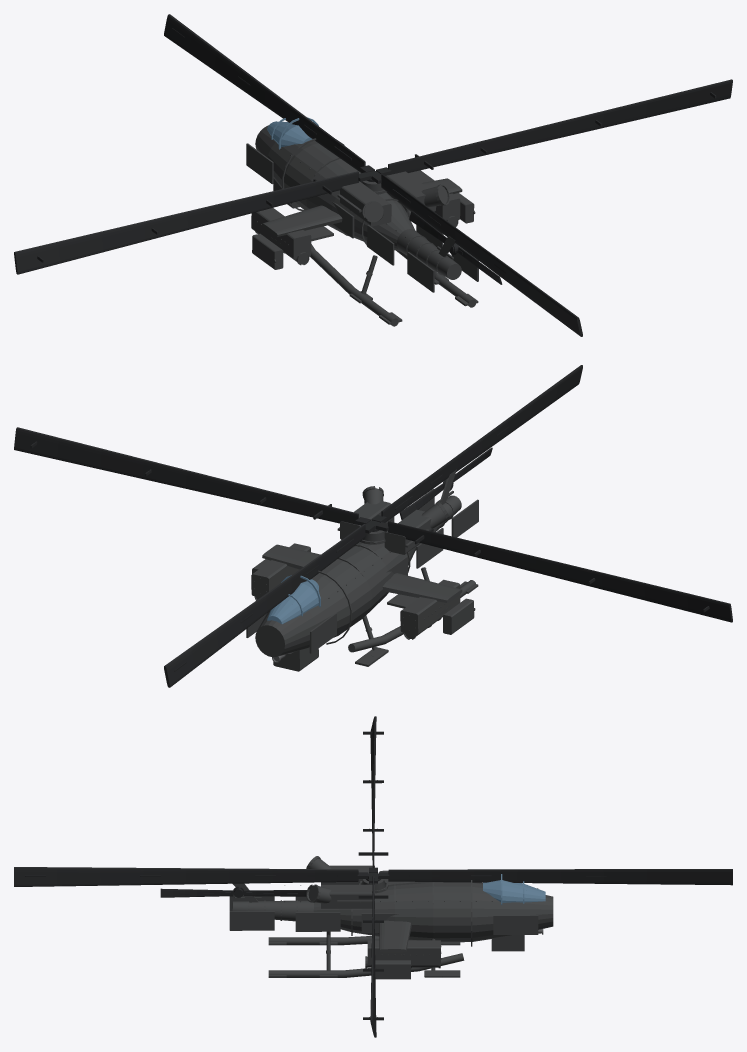
Rendered from streak_gunship.glb.
The picture shows the model from 3 angles, top to bottom: view 1: azimuth 30°, elevation 25°; view 2: azimuth 150°, elevation 25°; view 3: azimuth 270°, elevation 25°; orthographic projection. The views are drawn at different scales.
Parts seen in each view (by area): view 1: streak_gunship__mainRotor, streak_gunship__streak_gunship, streak_gunship__cockpit, streak_gunship__tailRotor; view 2: streak_gunship__mainRotor, streak_gunship__streak_gunship, streak_gunship__cockpit, streak_gunship__tailRotor; view 3: streak_gunship__streak_gunship, streak_gunship__mainRotor, streak_gunship__tailRotor, streak_gunship__cockpit.
Boxes of the visible parts, <box> form: streak_gunship__mainRotor: <box>14,14,732,336</box>; streak_gunship__streak_gunship: <box>246,125,478,326</box>; streak_gunship__cockpit: <box>267,117,318,149</box>; streak_gunship__tailRotor: <box>409,211,502,284</box>; streak_gunship__mainRotor: <box>14,365,732,687</box>; streak_gunship__streak_gunship: <box>246,469,478,671</box>; streak_gunship__cockpit: <box>267,575,320,624</box>; streak_gunship__tailRotor: <box>399,447,492,519</box>; streak_gunship__streak_gunship: <box>229,856,553,979</box>; streak_gunship__mainRotor: <box>14,716,732,1037</box>; streak_gunship__tailRotor: <box>160,886,306,897</box>; streak_gunship__cockpit: <box>483,874,545,904</box>.
Bounding box in the file's own units: 4.8 × 0.6863 × 4.8.
